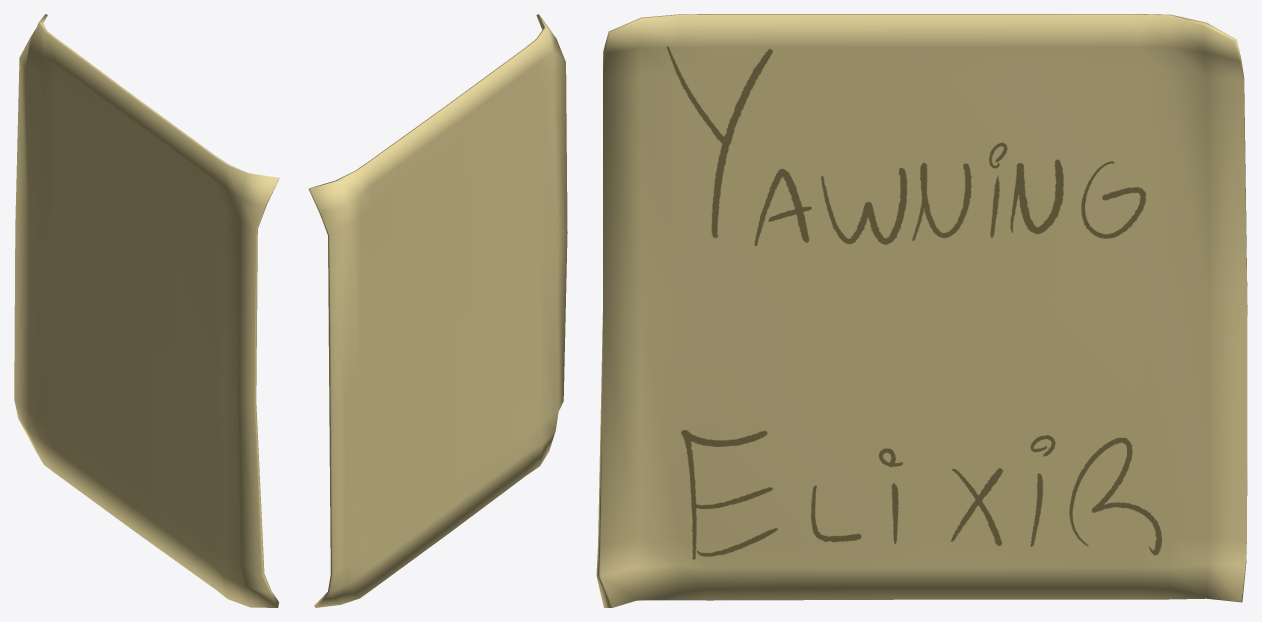
Rendered from papelYawningElixir.fbx.
The picture shows the model from 3 angles, left to right: view 1: azimuth 30°, elevation 25°; view 2: azimuth 150°, elevation 25°; view 3: azimuth 270°, elevation 25°; orthographic projection. The views are drawn at different scales.
Parts seen in each view (by area): view 1: Papel; view 2: Papel; view 3: Papel.
Boxes of the visible parts, x1=… form: Papel: x1=14, y1=14, x2=279, y2=607; Papel: x1=309, y1=14, x2=567, y2=607; Papel: x1=596, y1=14, x2=1247, y2=607.
Size of the model in its own units: 16.28 by 200 by 202.
